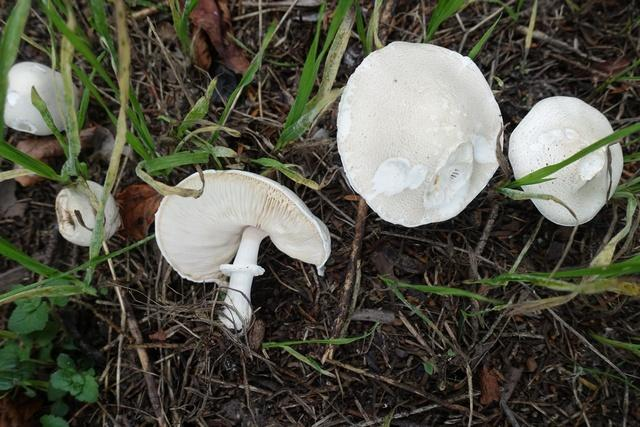Non-edible Mushroom: (335, 39, 504, 228), (153, 168, 331, 336), (507, 94, 624, 226), (2, 60, 76, 136), (54, 178, 122, 247)
